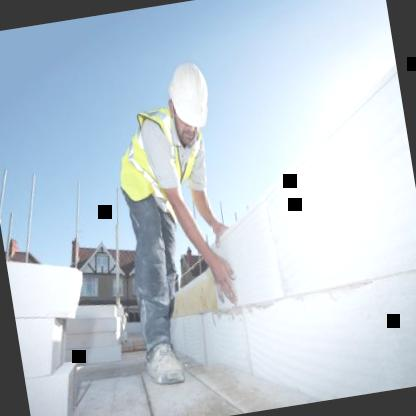helmet: (152, 48, 222, 162)
